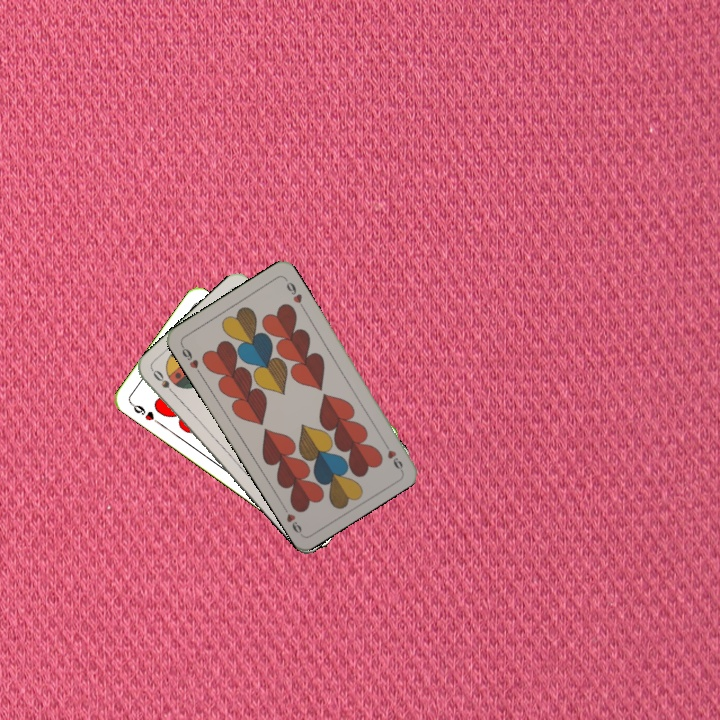H9: (378, 436, 406, 473), (126, 399, 162, 427), (177, 340, 204, 377)
SO: (149, 366, 180, 400)
